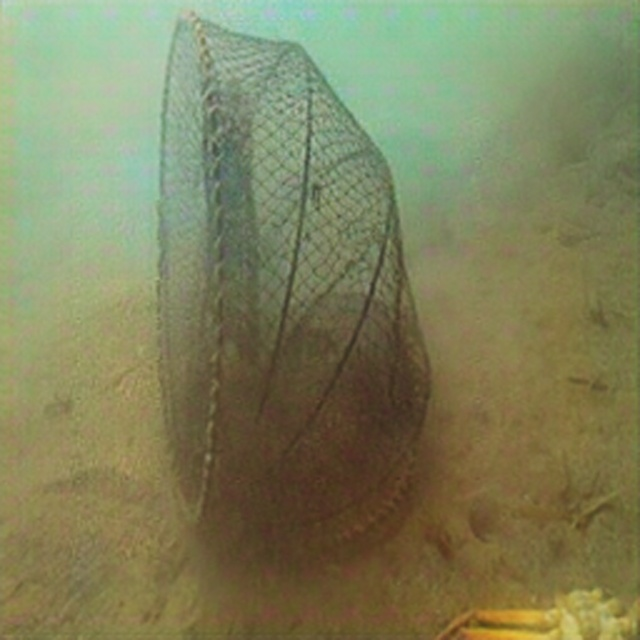mine: (155, 4, 431, 564)
